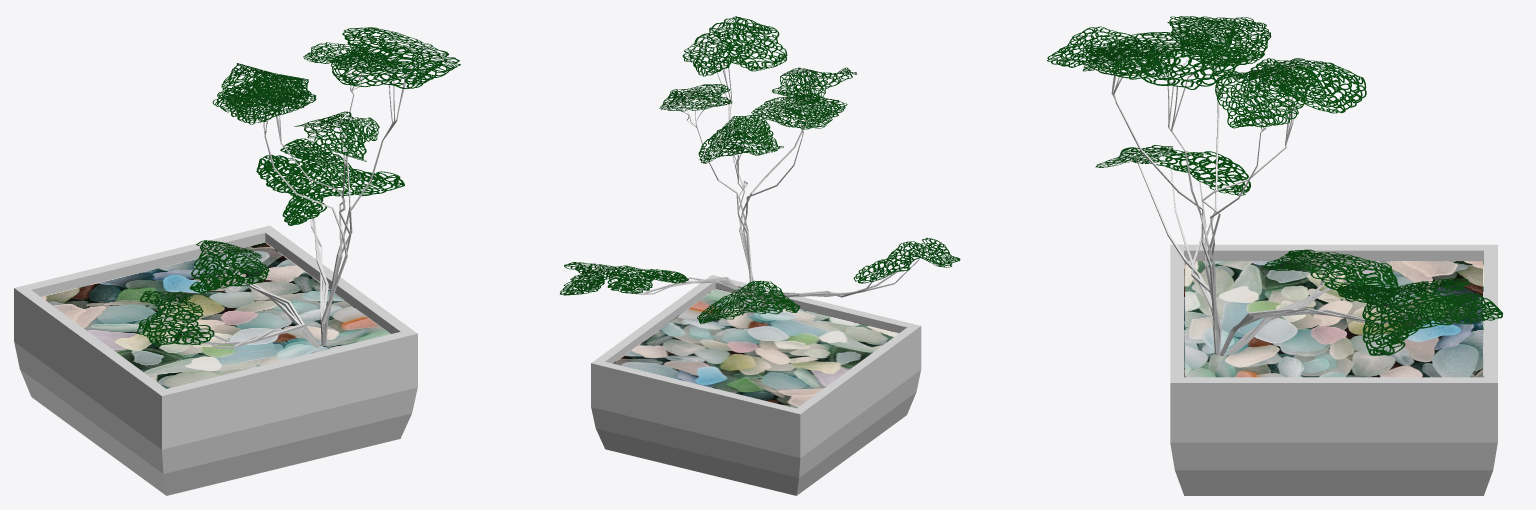
Rendered from Metal tree 16 bonsai.fbx.
3 renders of one model, left to right at view 1: azimuth 30°, elevation 25°; view 2: azimuth 150°, elevation 25°; view 3: azimuth 270°, elevation 25°, orthographic. The views are drawn at different scales.
Parts seen in each view (by area): view 1: Cube, Plane.005; view 2: Cube, Plane.005; view 3: Cube, Plane.005.
Part boxes in pixels (x1,y1,x2,y2): Cube: (14, 225, 417, 495); Plane.005: (137, 27, 460, 348); Cube: (591, 275, 921, 495); Plane.005: (560, 16, 960, 324); Cube: (1170, 244, 1497, 495); Plane.005: (1047, 16, 1502, 355).
Bounding box in the file's own units: 235 × 210 × 213.
